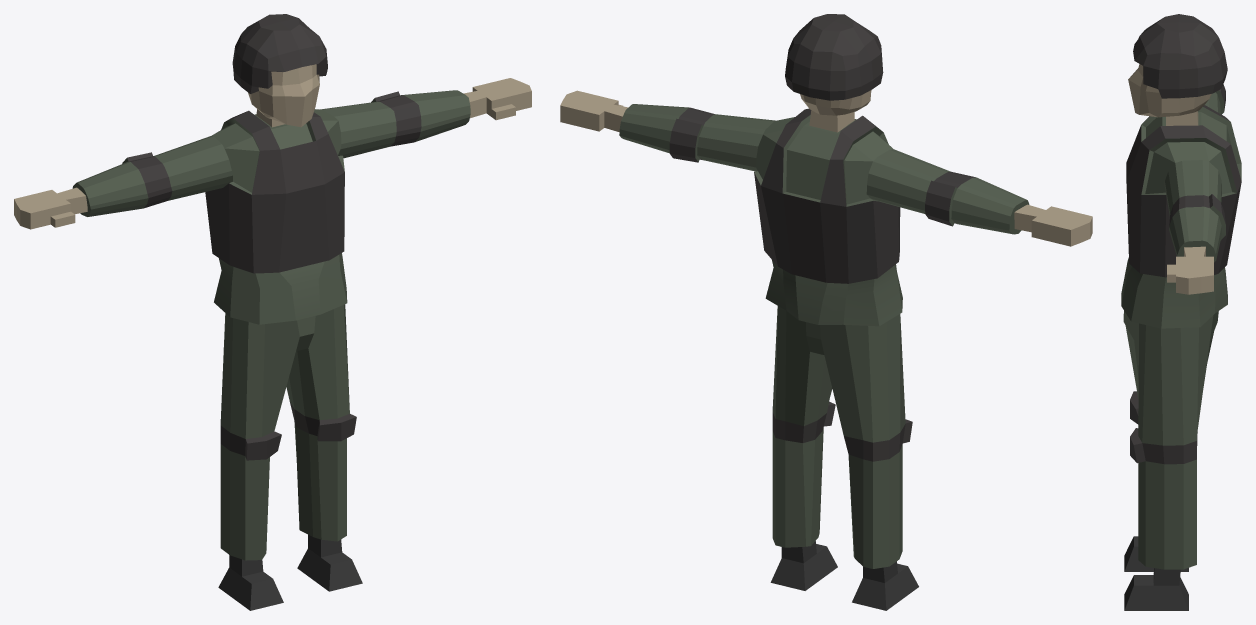
File: Military_dude.fbx
3 renders of one model, left to right at view 1: azimuth 30°, elevation 25°; view 2: azimuth 150°, elevation 25°; view 3: azimuth 270°, elevation 25°, orthographic. The views are drawn at different scales.
Visible parts, largest first — view 1: Military_dude; view 2: Military_dude; view 3: Military_dude.
Part boxes in pixels (left/top/right/bottom): Military_dude: left=14, top=14, right=531, bottom=610; Military_dude: left=560, top=14, right=1092, bottom=610; Military_dude: left=1121, top=14, right=1241, bottom=610.
Bounding box in the file's own units: 180 × 188 × 36.55.
